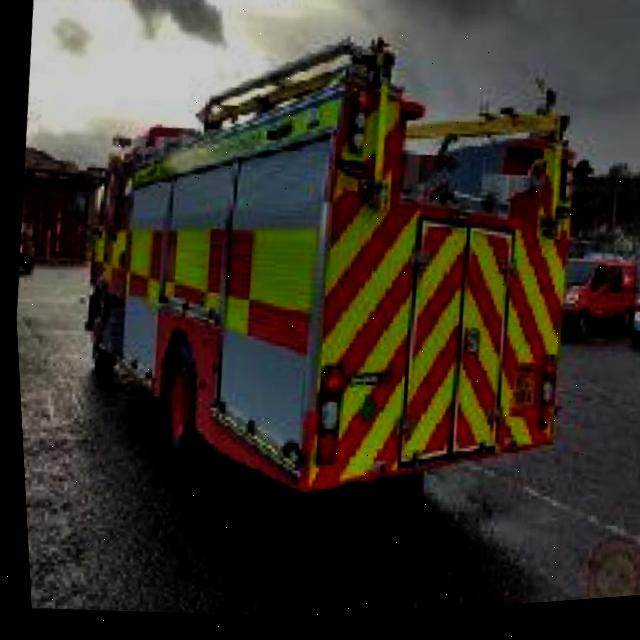emergency: (42, 0, 615, 543)
